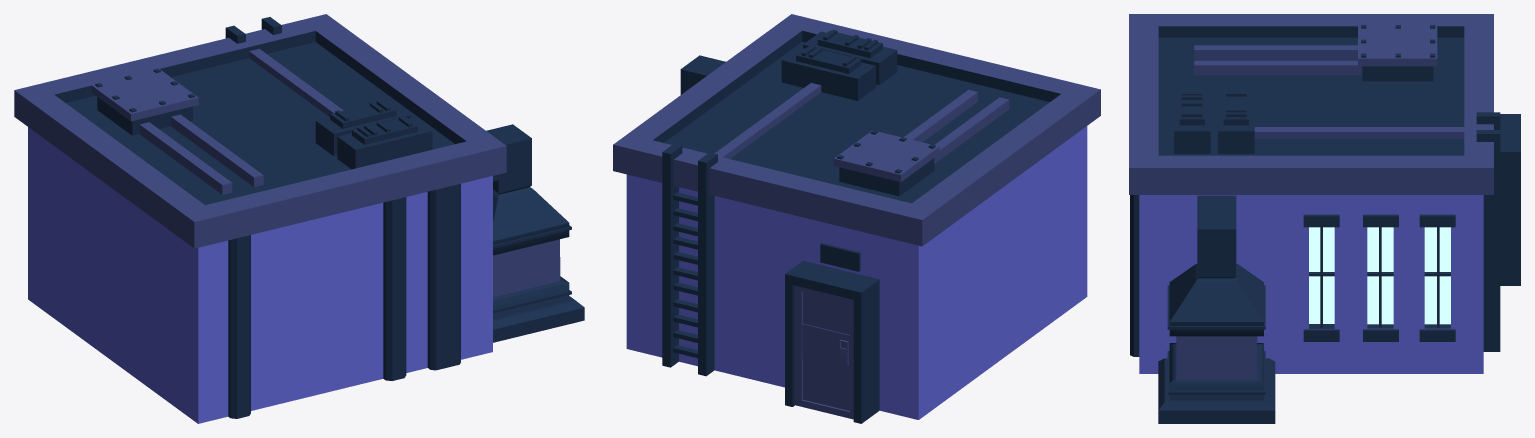
File: 矮房子.fbx
The picture shows the model from 3 angles, left to right: view 1: azimuth 30°, elevation 25°; view 2: azimuth 150°, elevation 25°; view 3: azimuth 270°, elevation 25°; orthographic projection. The views are drawn at different scales.
Parts seen in each view (by area): view 1: Building 01.009, Building 01.007, Building 01.008, Building 01.011; view 2: Building 01.009, Building 01.007, Building 01.008, Building 01 Door.001; view 3: Building 01.007, Building 01.009, Building 01.008, Building 01.010, Building 01.011.
Boxes of the visible parts, x1=… form: Building 01.009: x1=28, y1=127, x2=492, y2=423; Building 01.007: x1=54, y1=17, x2=584, y2=418; Building 01.008: x1=14, y1=14, x2=506, y2=248; Building 01.011: x1=493, y1=239, x2=560, y2=297; Building 01.009: x1=626, y1=126, x2=1087, y2=419; Building 01.007: x1=653, y1=29, x2=1060, y2=423; Building 01.008: x1=613, y1=14, x2=1100, y2=246; Building 01 Door.001: x1=795, y1=285, x2=853, y2=419; Building 01.007: x1=1130, y1=25, x2=1520, y2=423; Building 01.009: x1=1139, y1=195, x2=1483, y2=373; Building 01.008: x1=1129, y1=14, x2=1493, y2=194; Building 01.010: x1=1309, y1=227, x2=1450, y2=324; Building 01.011: x1=1176, y1=336, x2=1257, y2=379.
Bounding box in the file's own units: 10.36 × 5.57 × 8.59.
